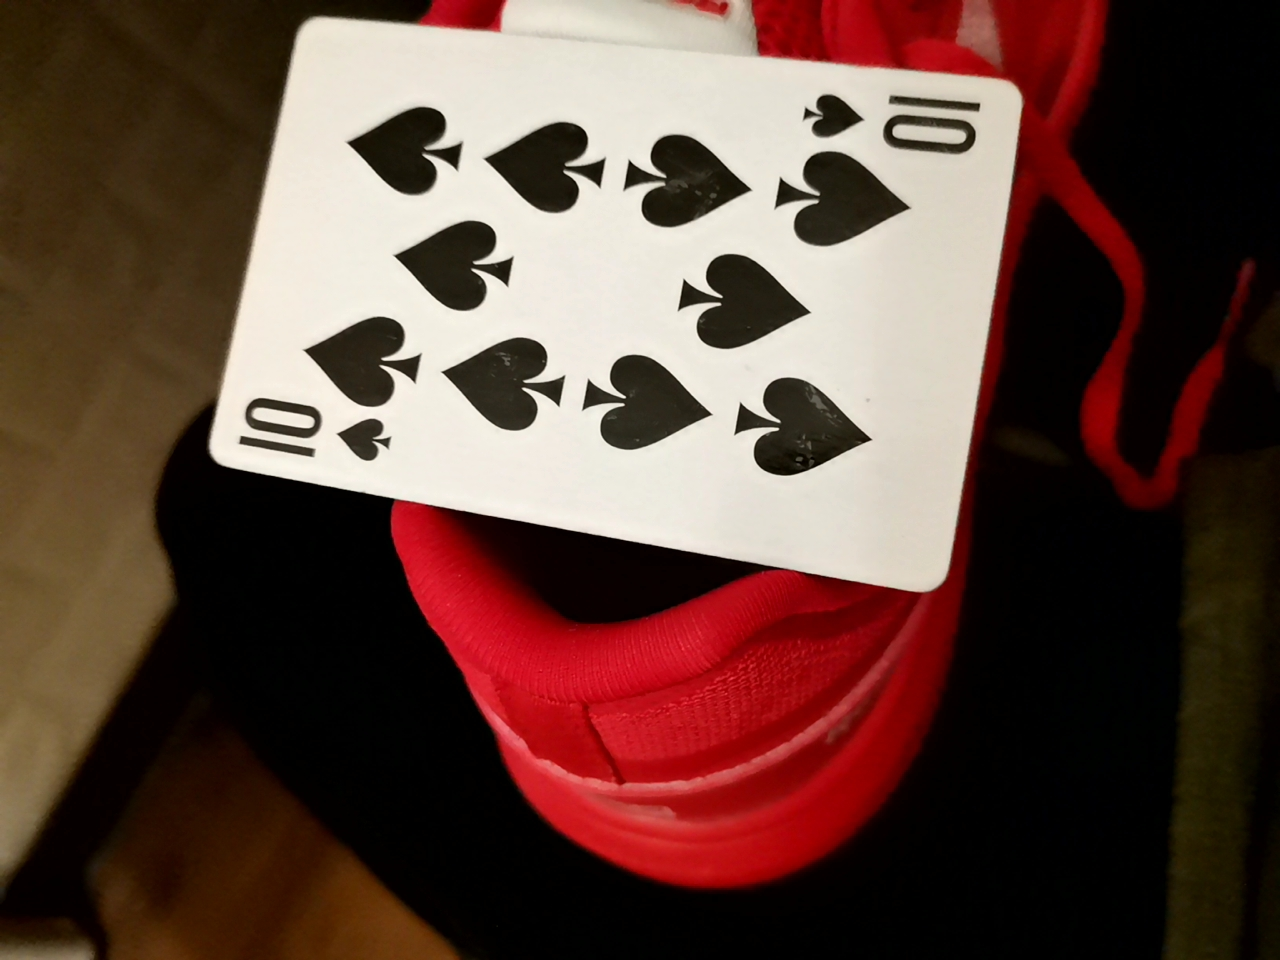ht 10: (180, 32, 1010, 608)
